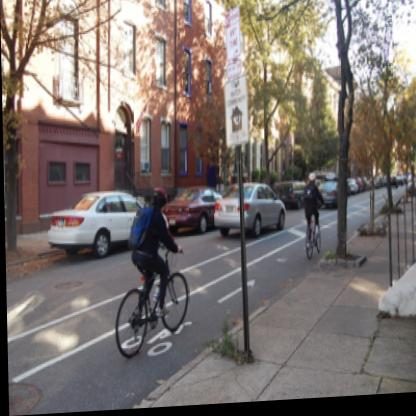With Helmet: (147, 185, 169, 212), (305, 170, 319, 189)
